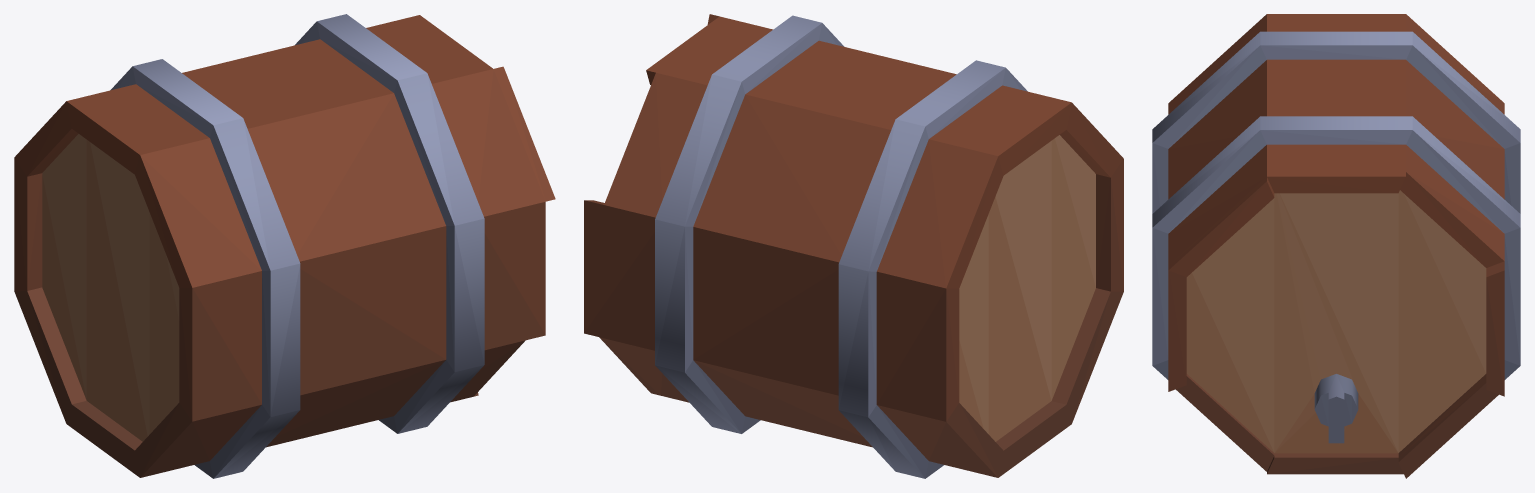
File: food_barrel.glb
3 renders of one model, left to right at view 1: azimuth 30°, elevation 25°; view 2: azimuth 150°, elevation 25°; view 3: azimuth 270°, elevation 25°, orthographic. The views are drawn at different scales.
Parts seen in each view (by area): view 1: food_barrel; view 2: food_barrel; view 3: food_barrel.
Part boxes in pixels (x1=…): food_barrel: x1=14, y1=14, x2=555, y2=478; food_barrel: x1=584, y1=14, x2=1123, y2=478; food_barrel: x1=1152, y1=14, x2=1520, y2=478.
Size of the model in its own units: 0.76 by 0.6789 by 0.6789.
